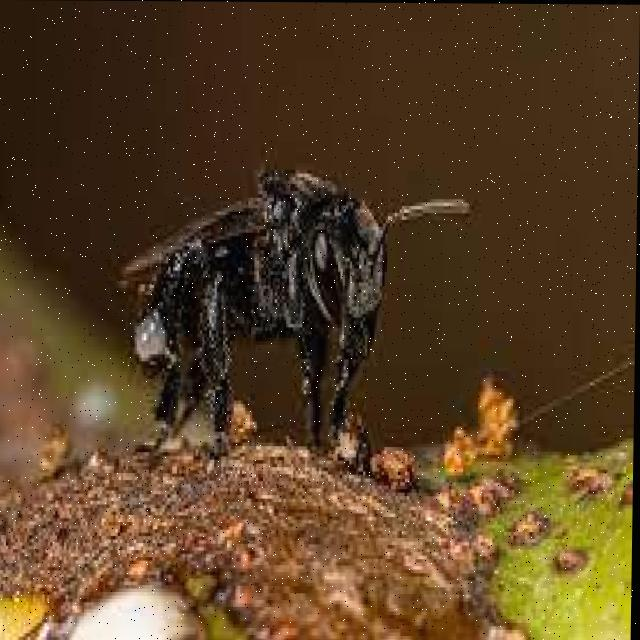Meliponula: (135, 124, 396, 453)
